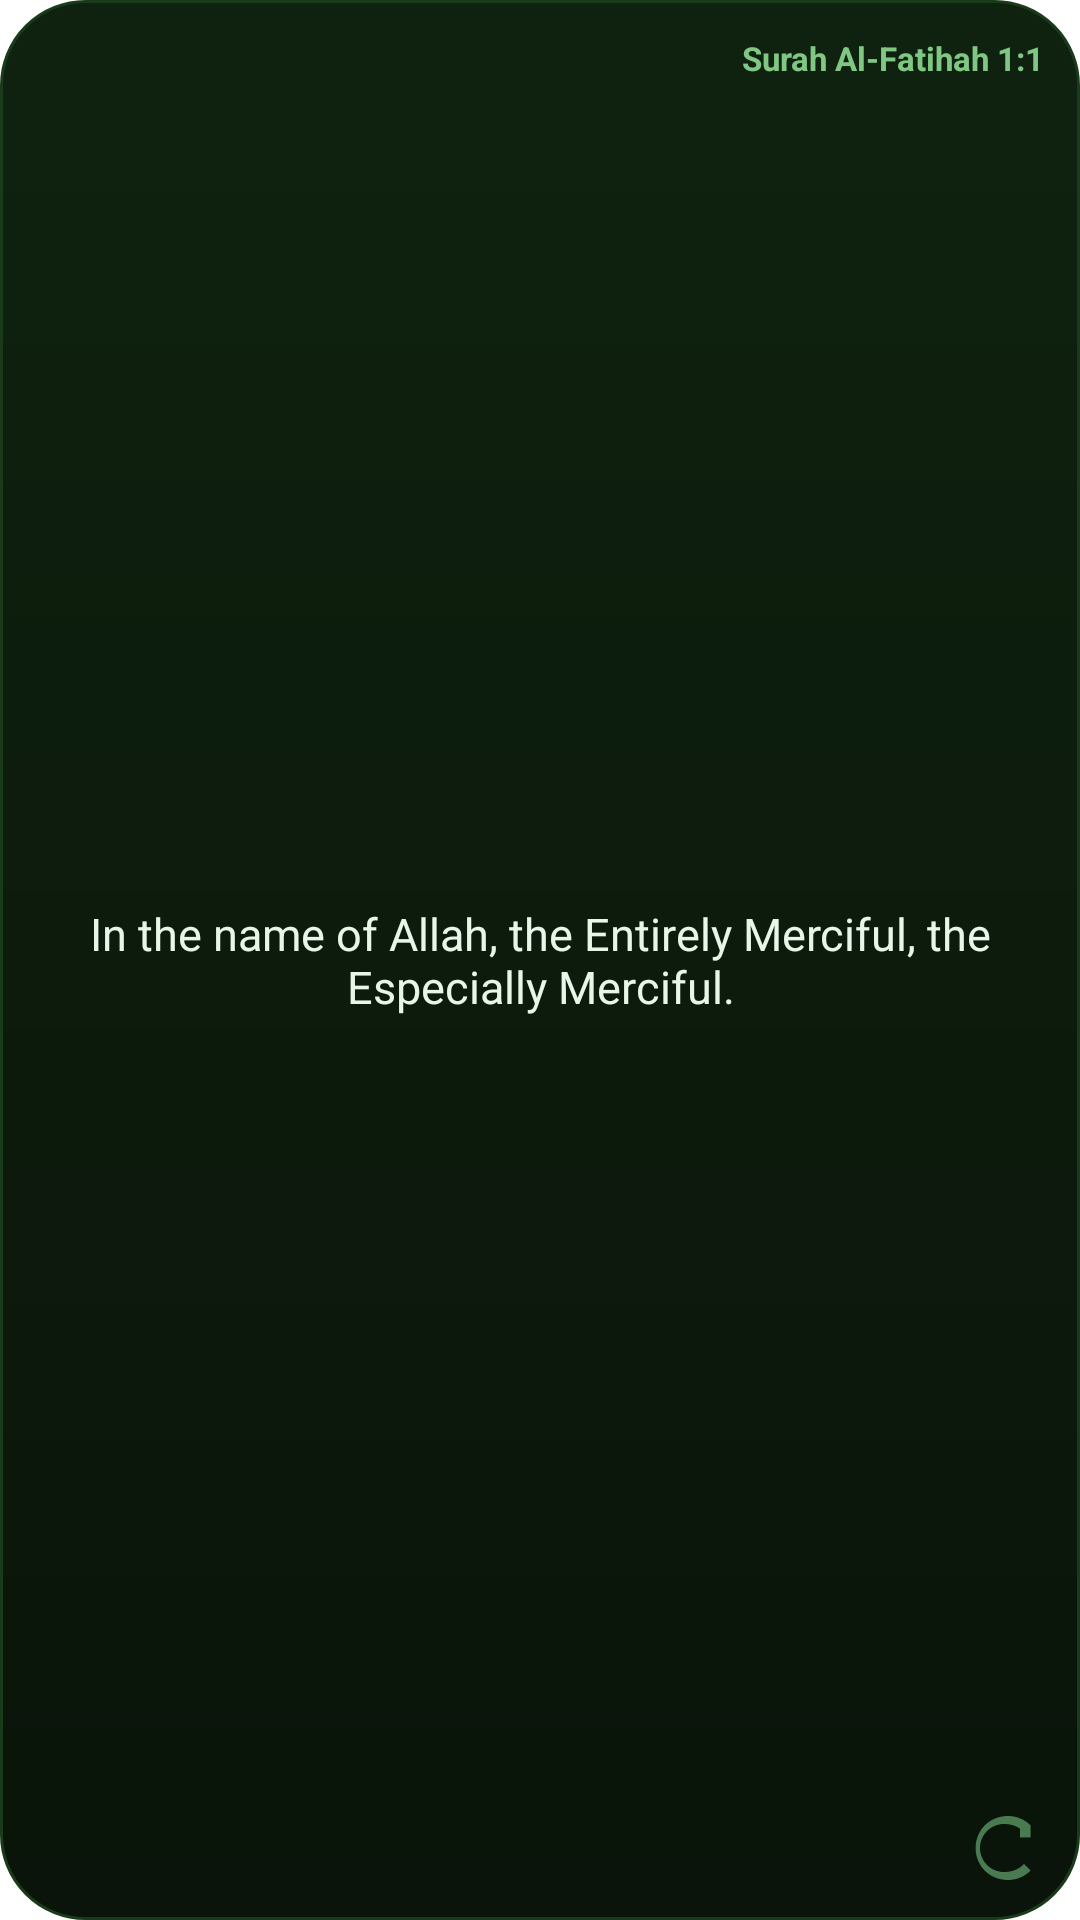

Icon bounding boxes for this 1080*1920 phone screenshot, format (x1, y1, x2, y2):
Reload Ayah: (975, 1816, 1031, 1880)
